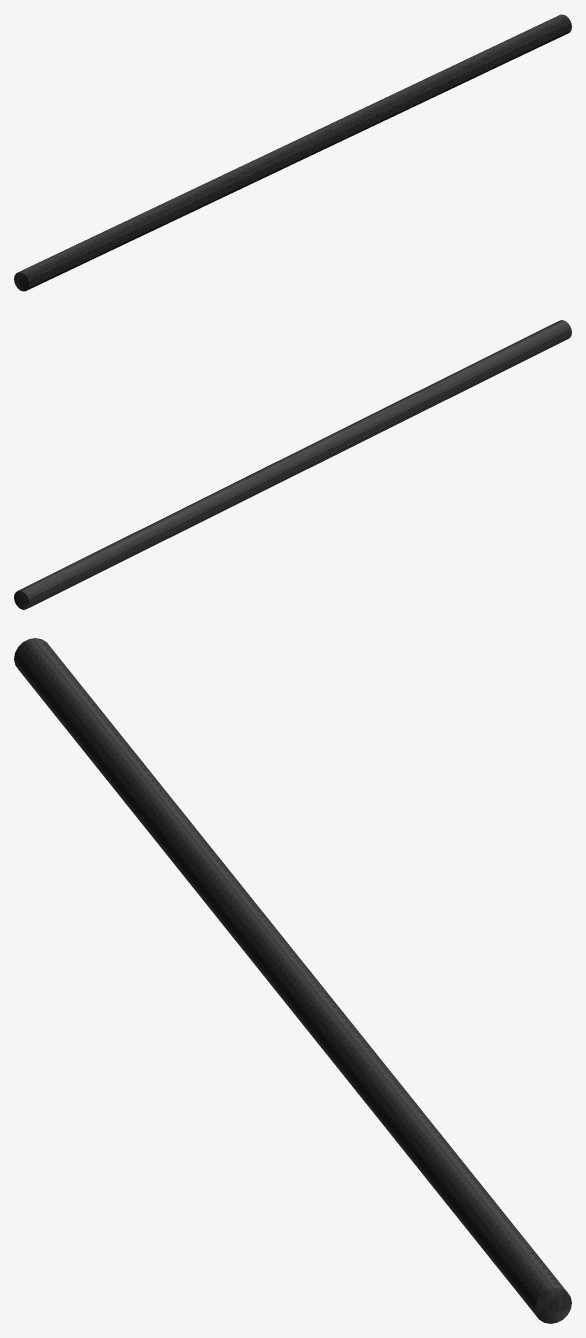
The model's file is noir15.FBX.
The picture shows the model from 3 angles, top to bottom: view 1: azimuth 30°, elevation 25°; view 2: azimuth 210°, elevation 25°; view 3: azimuth 270°, elevation 25°; orthographic projection. The views are drawn at different scales.
Visible parts, largest first — view 1: Cylindre002; view 2: Cylindre002; view 3: Cylindre002.
Part boxes in pixels (box(x1,y1,x2,y2)): Cylindre002: box(14, 14, 571, 291); Cylindre002: box(14, 320, 571, 609); Cylindre002: box(14, 638, 571, 1323).
Size of the model in its own units: 14.32 by 0.496 by 5.25.
1 material, 1 textured.
